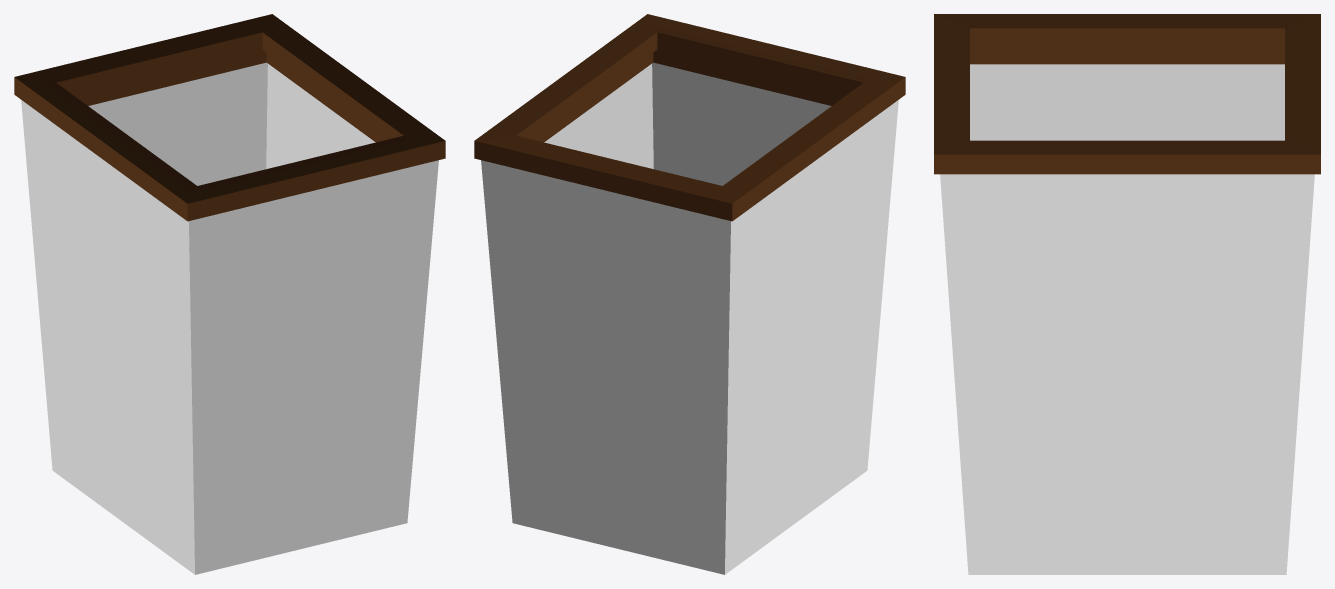
Rendered from Trash Can 3.fbx.
3 views of the same model, side by side, from view 1: azimuth 30°, elevation 25°; view 2: azimuth 150°, elevation 25°; view 3: azimuth 270°, elevation 25° (orthographic). The views are drawn at different scales.
Visible parts, largest first — view 1: Node 0; view 2: Node 0; view 3: Node 0.
Boxes of the visible parts, box(x1,y1,x2,y2) form: Node 0: box(14, 14, 445, 574); Node 0: box(474, 14, 905, 574); Node 0: box(934, 14, 1320, 574).
Bounding box in the file's own units: 0.3491 × 0.4313 × 0.3002.
